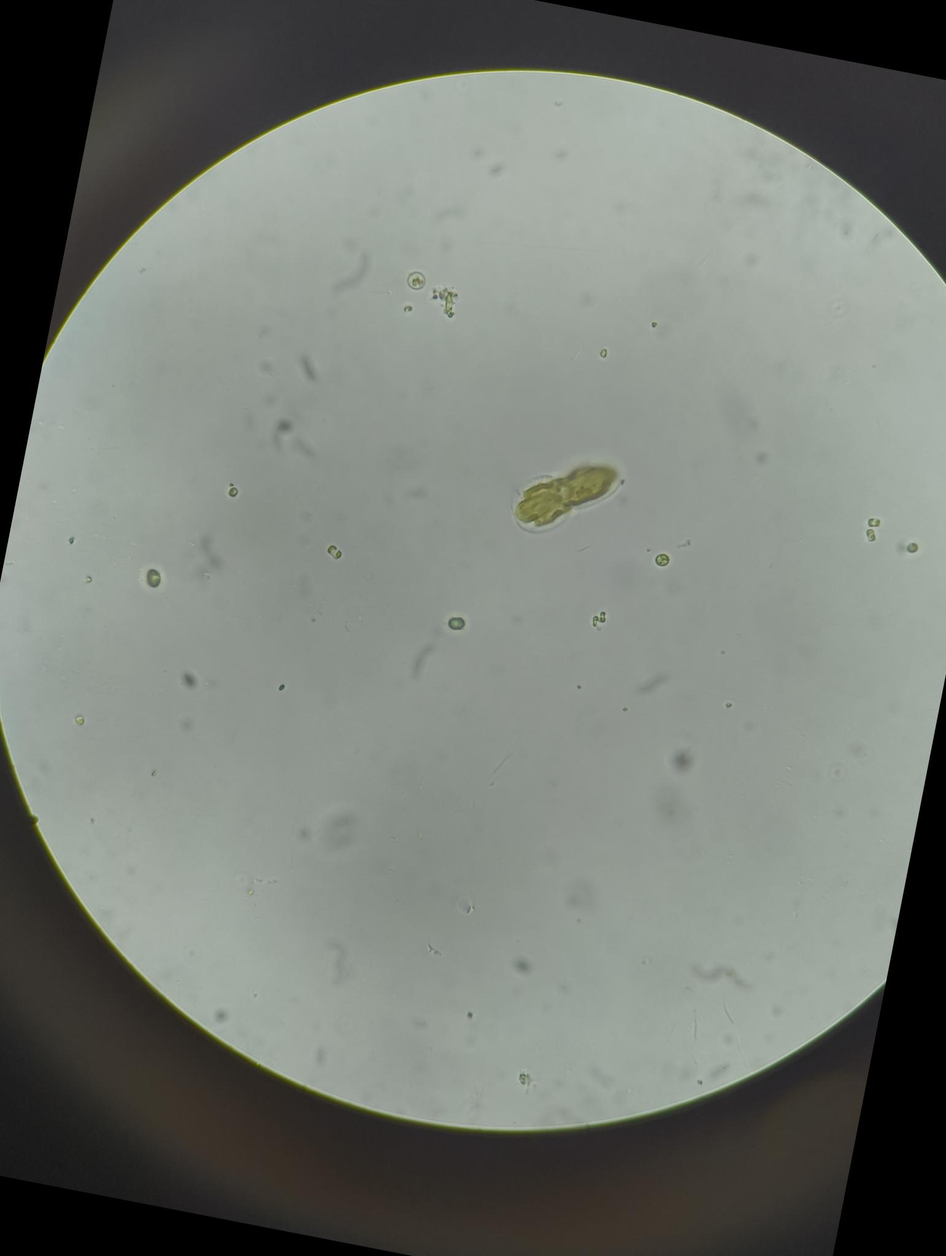Euglena: (500, 433, 639, 555)
